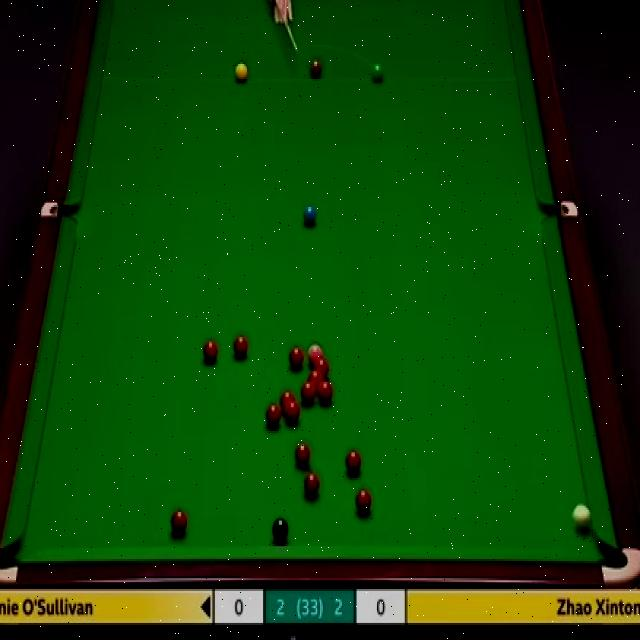black-ball: (270, 514, 290, 540)
blue-ball: (302, 206, 318, 224)
brown-ball: (310, 60, 322, 78)
green-ball: (370, 60, 385, 84)
pink-ball: (308, 343, 323, 365)
red-ball: (344, 447, 362, 475), (170, 511, 188, 536), (355, 489, 372, 515), (286, 348, 305, 370), (312, 357, 329, 381), (233, 332, 249, 356), (294, 444, 310, 468), (266, 402, 280, 428), (202, 342, 220, 362), (318, 381, 333, 402), (306, 473, 318, 499), (286, 401, 300, 422), (301, 381, 315, 402), (280, 391, 294, 411)
white-ball: (572, 504, 590, 529)
yellow-ball: (235, 62, 248, 83)
